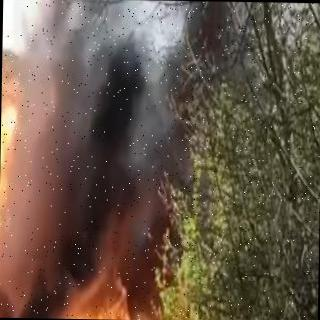smoke: (22, 24, 232, 256)
